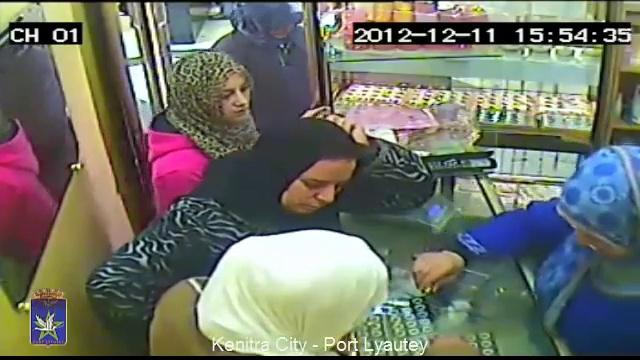Product: (418, 272, 439, 297)
Product-Picked: (417, 92, 640, 360)
Regular: (121, 209, 401, 360), (139, 38, 270, 189), (247, 109, 378, 231), (224, 0, 323, 106)
